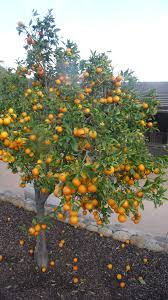orange: (89, 131, 98, 140), (79, 185, 86, 194)
